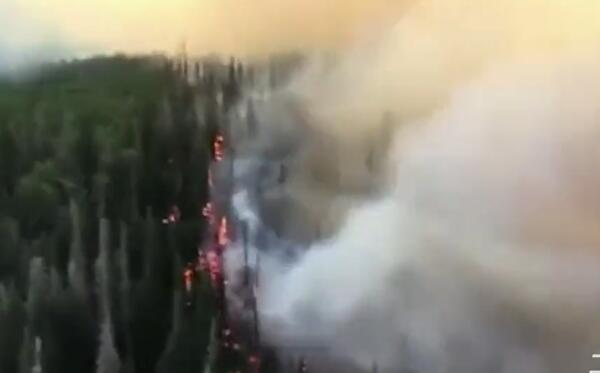fire: (163, 136, 226, 294)
yanwu: (222, 6, 599, 366)
